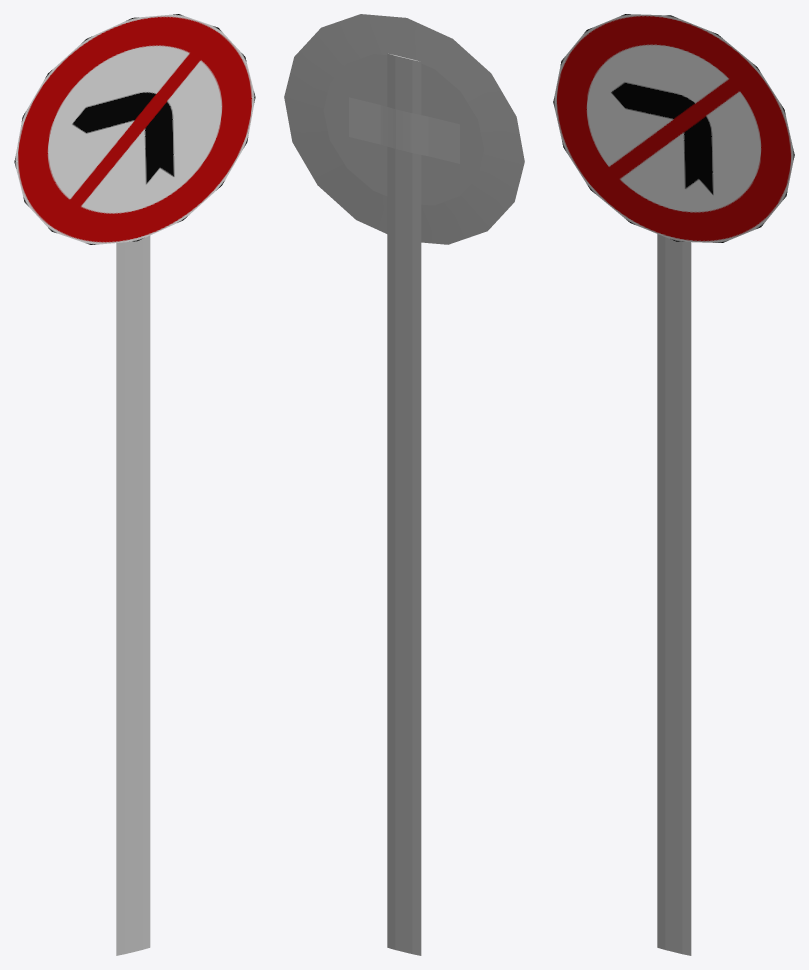
Rendered from soldonusyasak.dae.
The picture shows the model from 3 angles, left to right: view 1: azimuth 30°, elevation 25°; view 2: azimuth 150°, elevation 25°; view 3: azimuth 330°, elevation 25°; orthographic projection.
Visible parts, largest first — view 1: Sign_Circle.005; view 2: Sign_Circle.005; view 3: Sign_Circle.005.
Part boxes in pixels (x1=…): Sign_Circle.005: x1=14, y1=14, x2=255, y2=955; Sign_Circle.005: x1=284, y1=14, x2=524, y2=955; Sign_Circle.005: x1=553, y1=14, x2=794, y2=955.
Size of the model in its own units: 0.6353 by 0.00621 by 2.35.
3 materials, 1 textured.
